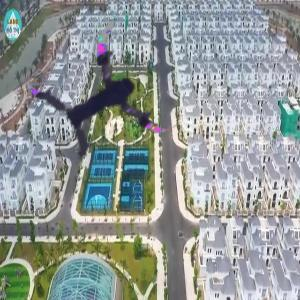drone: (40, 23, 184, 167)
